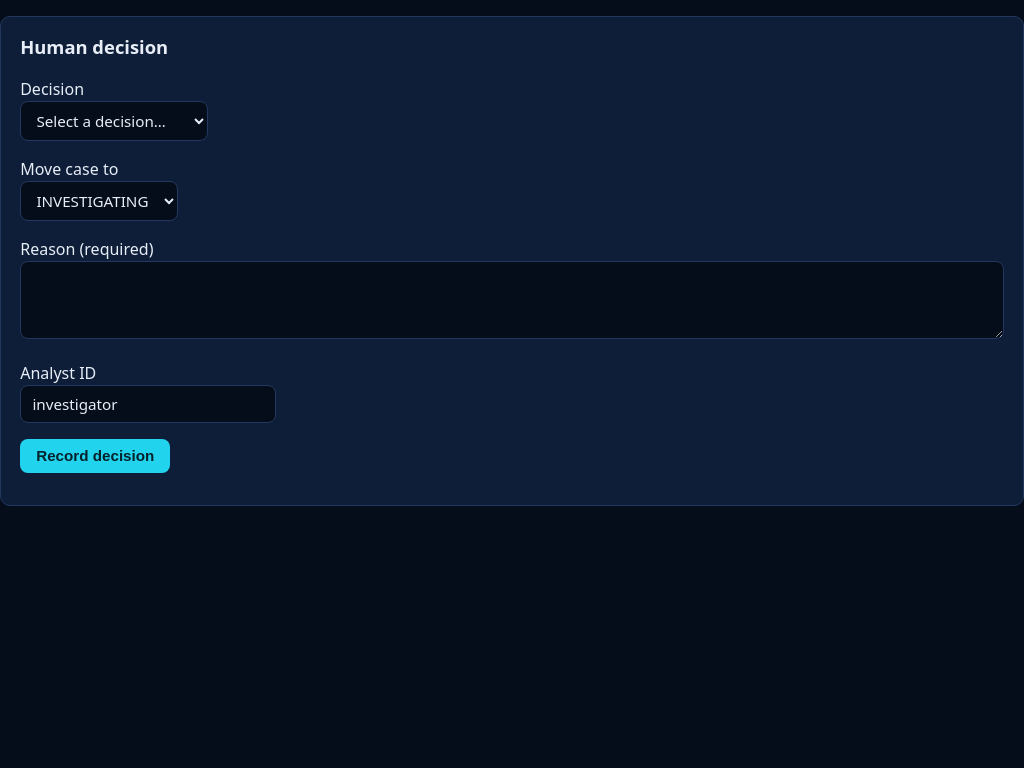
Test case: DecisionForm › refuses to submit without a reason
The width and height of the screenshot is (1024, 768).
Select "Escalate" in the dropdown labelled "Decision" at (114, 121), box [20,101,208,141]
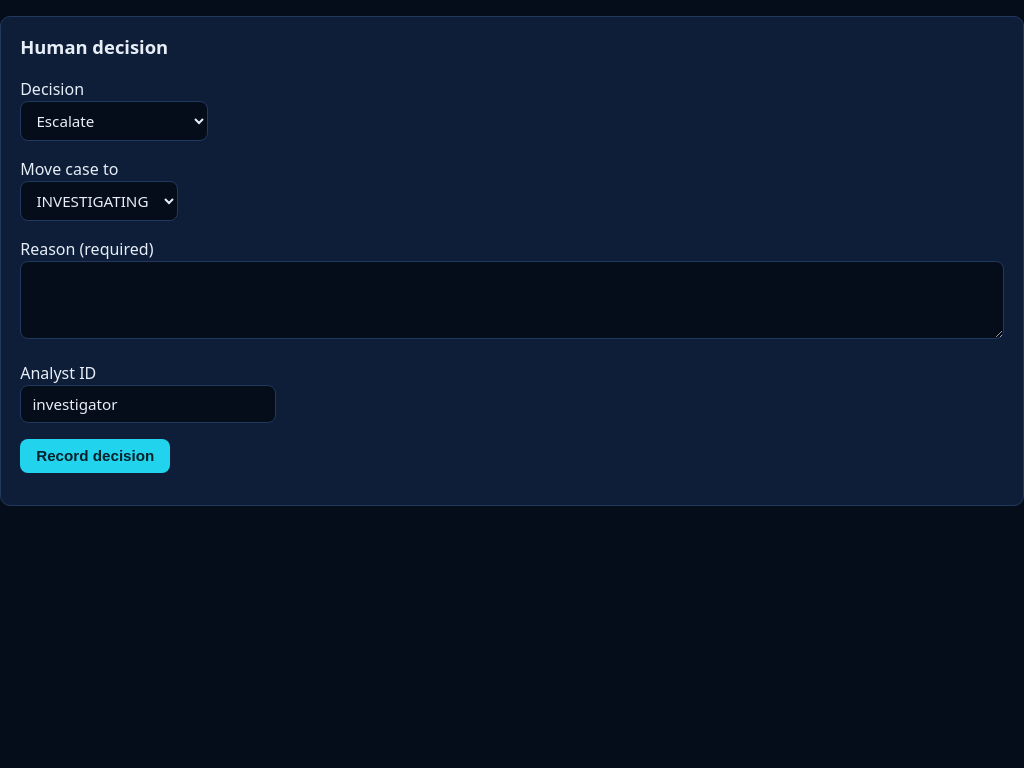
Click the button "Record decision" at (95, 456), box [20,439,170,473]
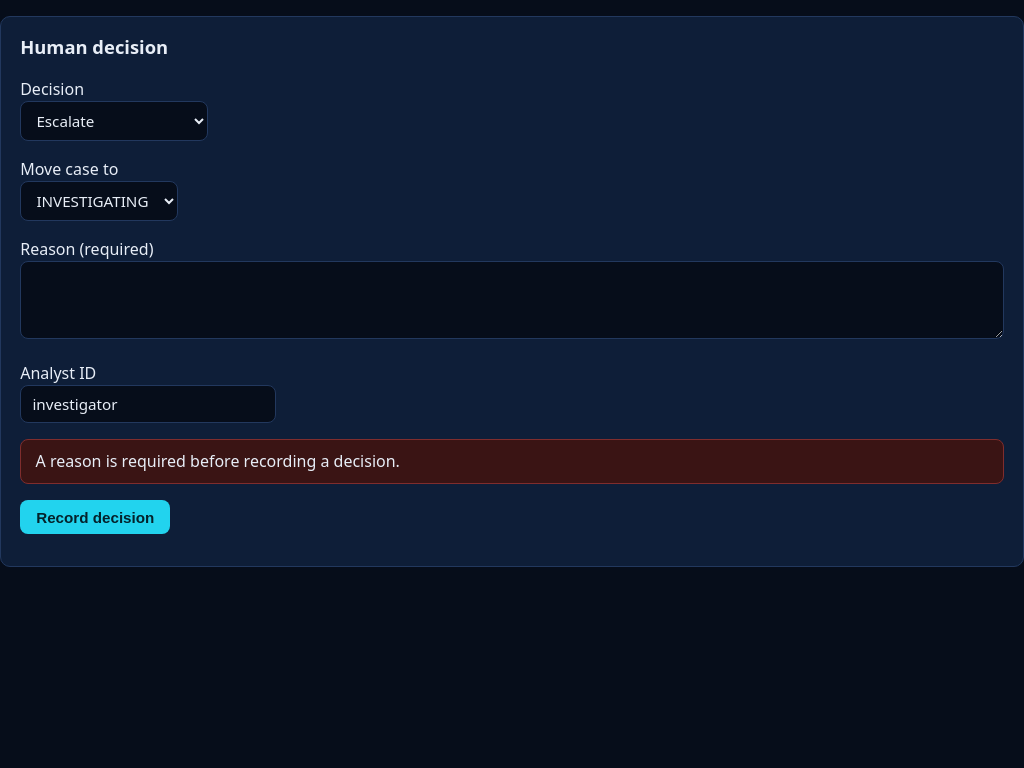
Expected: the text "A reason is required before recording a decision." is shown, [20,439,1004,484]
